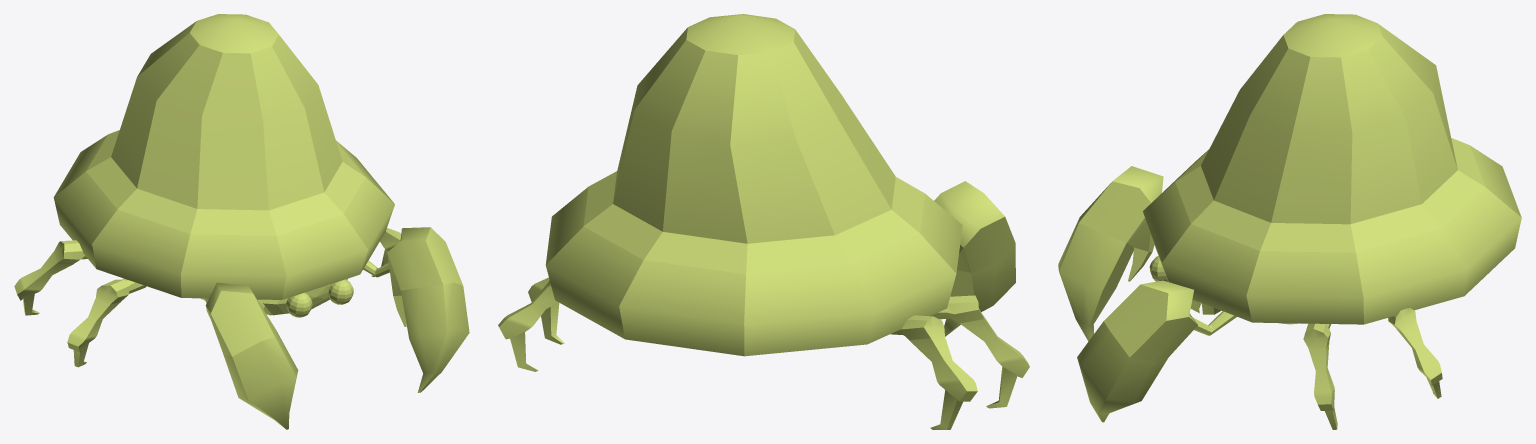
Rendered from parasect.glb.
3 renders of one model, left to right at view 1: azimuth 30°, elevation 25°; view 2: azimuth 150°, elevation 25°; view 3: azimuth 270°, elevation 25°, orthographic. The views are drawn at different scales.
Visible parts, largest first — view 1: Node; view 2: Node; view 3: Node.
Part boxes in pixels (left/top/right/bottom): Node: left=14, top=14, right=469, bottom=429; Node: left=498, top=14, right=1029, bottom=429; Node: left=1058, top=14, right=1521, bottom=429.
Size of the model in its own units: 14.78 by 12.14 by 14.23.
